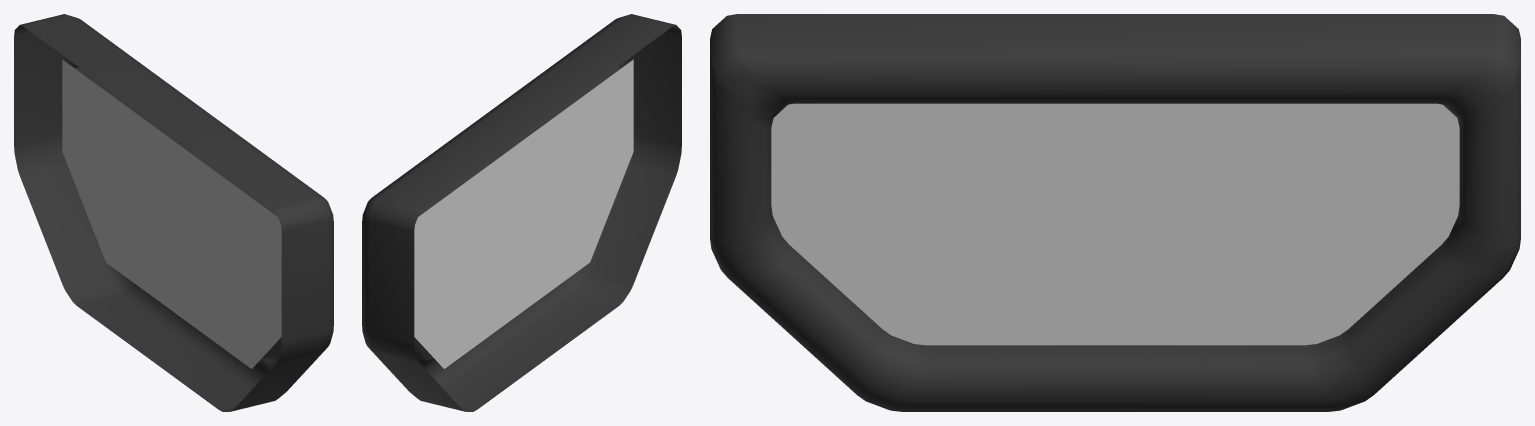
The model's file is background-window.fbx.
The picture shows the model from 3 angles, left to right: view 1: azimuth 30°, elevation 25°; view 2: azimuth 150°, elevation 25°; view 3: azimuth 270°, elevation 25°; orthographic projection. The views are drawn at different scales.
Parts seen in each view (by area): view 1: Plane.001; view 2: Plane.001; view 3: Plane.001.
Boxes of the visible parts, box(x1,y1,x2,y2) form: Plane.001: box(14, 14, 333, 411); Plane.001: box(362, 14, 681, 411); Plane.001: box(710, 14, 1520, 411).
Bounding box in the file's own units: 73.11 × 288 × 581.
